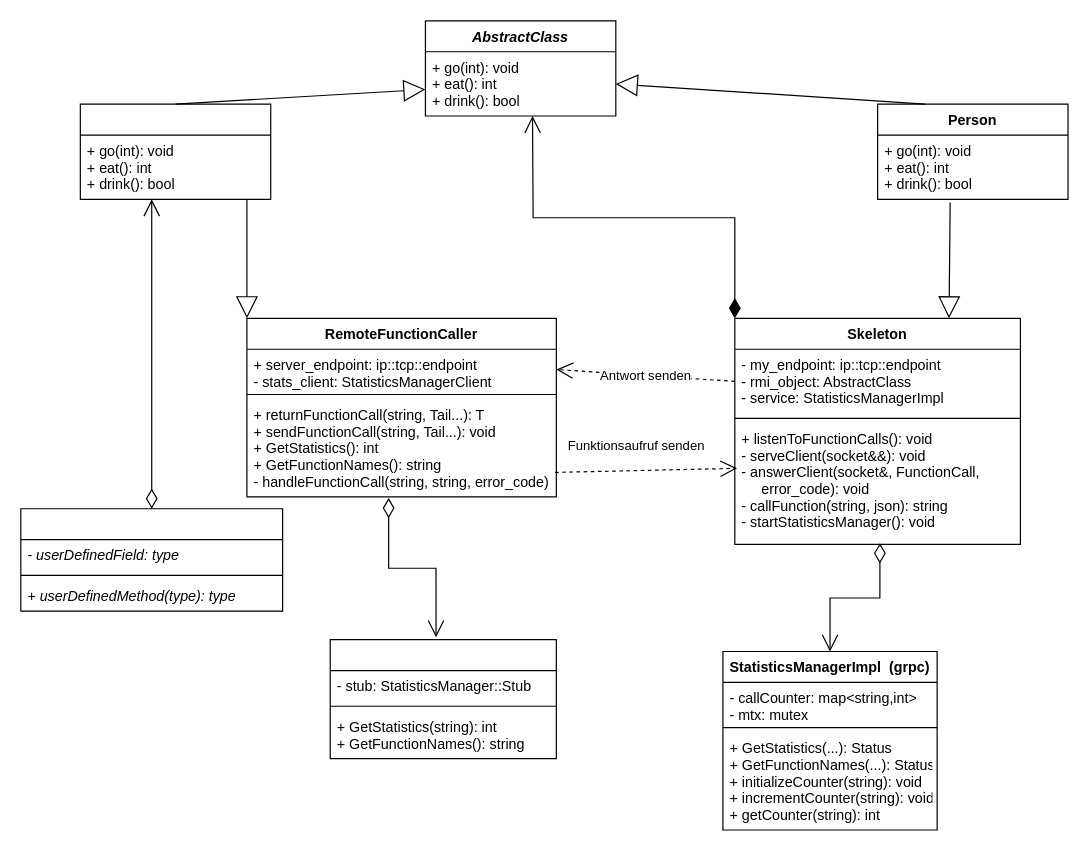
Image size: 1089x854. Some labels were removed from this diagram. Here are the shapes that lost their labels. From the top down, the box of each, then its label:
(79, 103, 271, 199): PersonStub
(20, 508, 283, 611): Client
(329, 638, 556, 759): StatisticsManagerClient (grpc)
